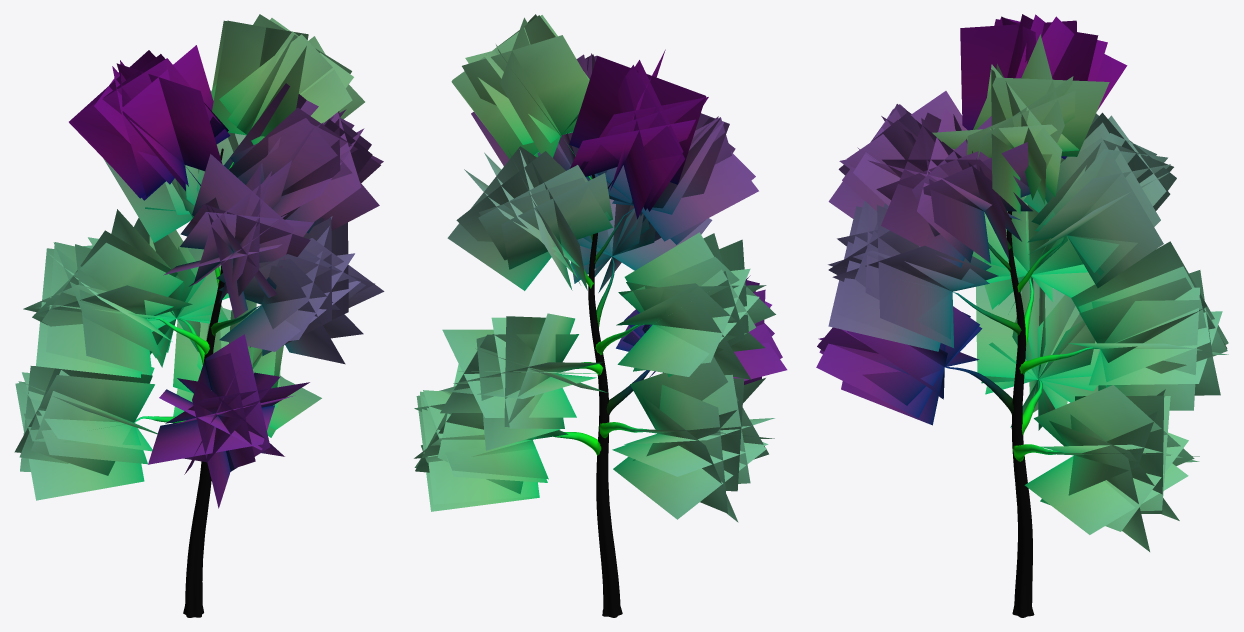
The model's file is URP_P6_Tree_1_LOD_0.fbx.
3 renders of one model, left to right at view 1: azimuth 30°, elevation 25°; view 2: azimuth 150°, elevation 25°; view 3: azimuth 270°, elevation 25°, orthographic. The views are drawn at different scales.
Parts seen in each view (by area): view 1: Tree_1_LOD_0; view 2: Tree_1_LOD_0; view 3: Tree_1_LOD_0.
Boxes of the visible parts, x1,y1,x2,y2 form: Tree_1_LOD_0: (14,14,384,617); Tree_1_LOD_0: (414,14,787,617); Tree_1_LOD_0: (816,14,1228,617).
Bounding box in the file's own units: 507 × 871 × 544.
